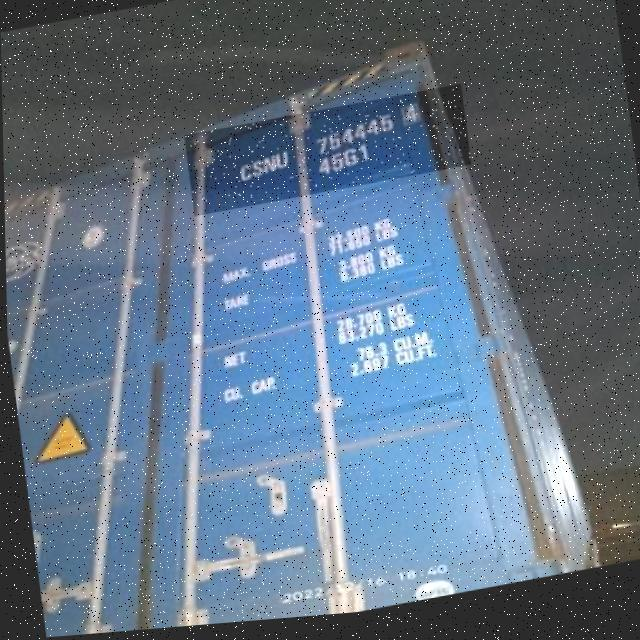container_number_h: (183, 91, 471, 220)
